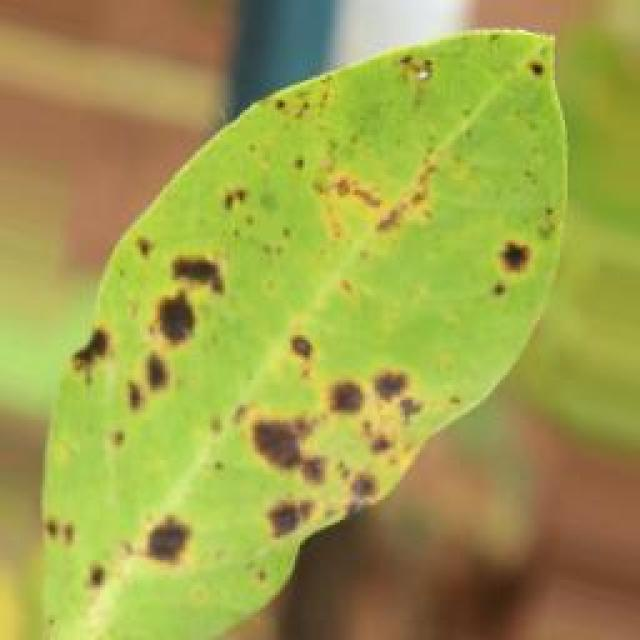Yellowish: (86, 41, 578, 594)
